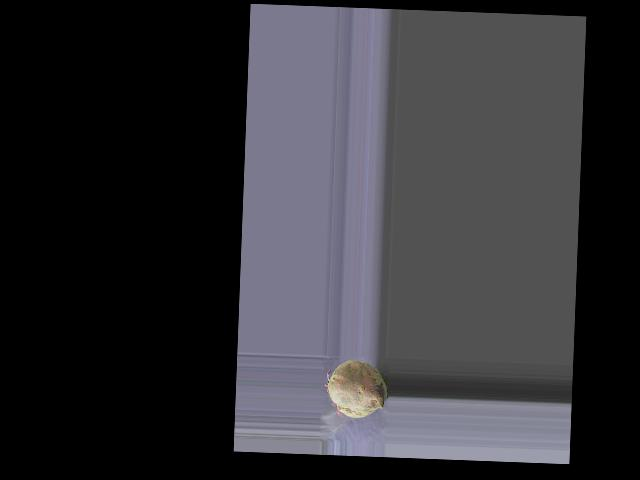beet: (324, 359, 388, 419)
